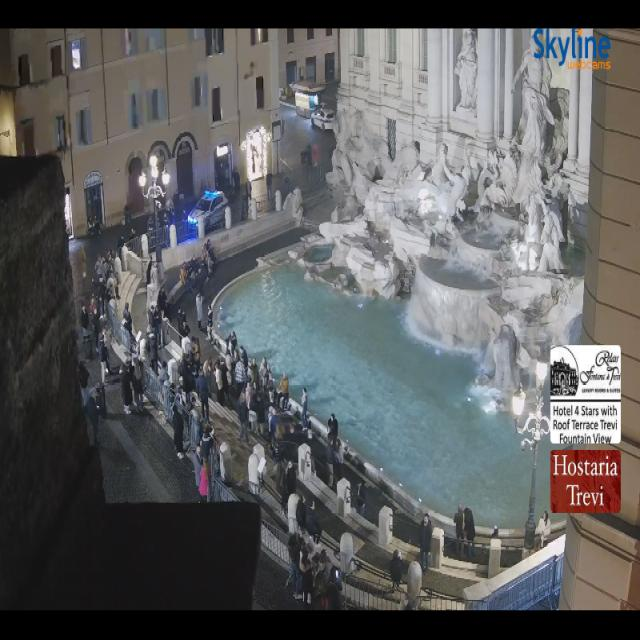person: (290, 532, 337, 606), (184, 395, 208, 456), (208, 302, 233, 360), (188, 338, 212, 393), (179, 352, 199, 411), (286, 533, 302, 599), (210, 357, 232, 405), (199, 423, 219, 475), (314, 550, 331, 610), (178, 355, 196, 411), (198, 386, 211, 456), (196, 418, 219, 457), (158, 196, 175, 248), (252, 388, 270, 435), (418, 514, 432, 571), (85, 394, 99, 447), (172, 391, 183, 458), (305, 502, 322, 544), (246, 359, 268, 391), (101, 286, 119, 324), (283, 461, 296, 513), (273, 435, 285, 491), (98, 333, 111, 384), (184, 337, 201, 376), (196, 369, 209, 420), (300, 556, 313, 607), (264, 365, 279, 408), (327, 568, 342, 610), (127, 331, 146, 364), (282, 422, 307, 447), (180, 355, 195, 396), (120, 366, 133, 413), (132, 357, 143, 412), (331, 438, 343, 487), (264, 366, 278, 408), (318, 549, 335, 583), (238, 392, 249, 443), (304, 537, 319, 574), (536, 511, 551, 548), (453, 505, 464, 555), (464, 507, 475, 557), (202, 241, 215, 283), (308, 536, 323, 572), (110, 254, 122, 299), (159, 363, 171, 407), (120, 359, 135, 394), (286, 422, 307, 447), (198, 249, 211, 289), (79, 361, 90, 408), (220, 359, 231, 404), (201, 240, 213, 281), (203, 356, 216, 393), (248, 391, 259, 434), (325, 440, 335, 487), (264, 391, 276, 430), (148, 328, 158, 374), (390, 550, 402, 588), (188, 339, 200, 377), (245, 370, 258, 405), (99, 319, 113, 351), (245, 370, 258, 403), (157, 288, 171, 318), (173, 193, 187, 223), (259, 359, 271, 394), (193, 445, 203, 487), (201, 423, 213, 458), (92, 277, 103, 315), (96, 257, 112, 283), (99, 260, 109, 301), (256, 394, 266, 435), (235, 360, 247, 394), (265, 365, 275, 405), (268, 406, 278, 446), (102, 249, 114, 282), (190, 337, 201, 373), (310, 542, 319, 586), (191, 257, 205, 285), (199, 459, 208, 502), (88, 284, 99, 318), (103, 250, 115, 281), (113, 258, 122, 299), (223, 167, 234, 200), (153, 306, 162, 346), (124, 355, 135, 387), (278, 374, 288, 409), (143, 214, 155, 243), (335, 439, 343, 482), (95, 255, 107, 283), (91, 310, 100, 347), (216, 364, 224, 405), (103, 278, 112, 314), (207, 240, 216, 276), (165, 196, 175, 228), (296, 496, 306, 528), (185, 265, 196, 294), (301, 537, 314, 561), (98, 277, 106, 316), (157, 203, 168, 231), (173, 193, 184, 221), (356, 483, 365, 517), (302, 538, 315, 561), (220, 166, 231, 193), (93, 255, 103, 284), (158, 203, 169, 228), (196, 291, 203, 330), (177, 308, 186, 338), (147, 303, 157, 330), (157, 288, 167, 315), (104, 250, 113, 279), (92, 255, 101, 284), (245, 379, 255, 405), (241, 193, 250, 221), (328, 414, 338, 439), (224, 348, 234, 373), (301, 388, 307, 429), (176, 308, 183, 343), (88, 216, 100, 236), (124, 303, 132, 333), (259, 357, 267, 387), (208, 302, 214, 342), (87, 216, 99, 236), (80, 304, 89, 330), (266, 172, 272, 210), (249, 359, 258, 384), (97, 258, 106, 283), (92, 255, 99, 287), (187, 255, 198, 275), (88, 216, 99, 236), (240, 345, 249, 369), (267, 387, 276, 411), (95, 254, 103, 281), (103, 328, 111, 354), (124, 356, 132, 382), (232, 170, 240, 196), (160, 361, 169, 384), (201, 240, 210, 263), (148, 304, 155, 333), (256, 365, 264, 390), (228, 330, 237, 352), (156, 202, 163, 230), (80, 246, 86, 278), (312, 143, 320, 167), (265, 364, 273, 387), (107, 276, 115, 299), (117, 235, 124, 261), (88, 216, 97, 236), (306, 144, 311, 179), (178, 355, 187, 374), (88, 295, 96, 316), (328, 414, 334, 442), (177, 310, 183, 338), (180, 264, 187, 287), (101, 257, 107, 283), (178, 308, 186, 327), (108, 250, 115, 270), (148, 215, 155, 235), (276, 423, 285, 438), (124, 205, 131, 224), (181, 196, 187, 218), (490, 525, 499, 539), (300, 148, 307, 166), (147, 260, 152, 285), (183, 322, 191, 337), (246, 180, 251, 201), (404, 600, 414, 610), (233, 350, 240, 364), (129, 228, 136, 241), (233, 348, 239, 363), (106, 249, 112, 262)
